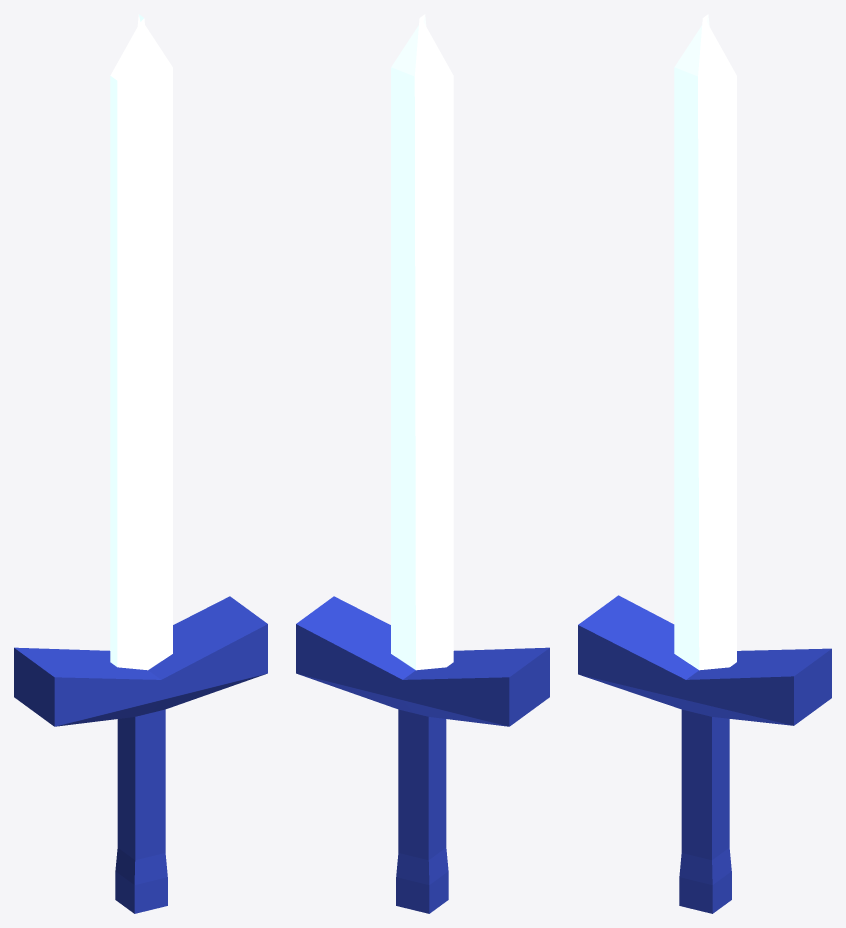
File: evil_bane.glb
The picture shows the model from 3 angles, left to right: view 1: azimuth 30°, elevation 25°; view 2: azimuth 150°, elevation 25°; view 3: azimuth 330°, elevation 25°; orthographic projection.
Visible parts, largest first — view 1: Cube.001; view 2: Cube.001; view 3: Cube.001.
Part boxes in pixels (x1,y1,x2,y2): Cube.001: [14, 14, 267, 913]; Cube.001: [296, 14, 549, 913]; Cube.001: [578, 14, 831, 913].
Size of the model in its own units: 0.7451 by 2.94 by 0.2433.
